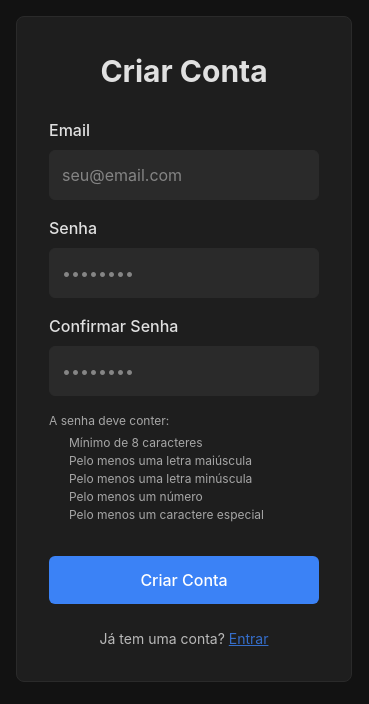
Test: Tela de Cadastro (SignUp) - Integração › deve exibir erros de validação ao submeter formulário vazio
(page scrolled)
Click the button "Criar Conta" at {"x": 184, "y": 580}, box top-left (49, 556), bottom-right (319, 604)
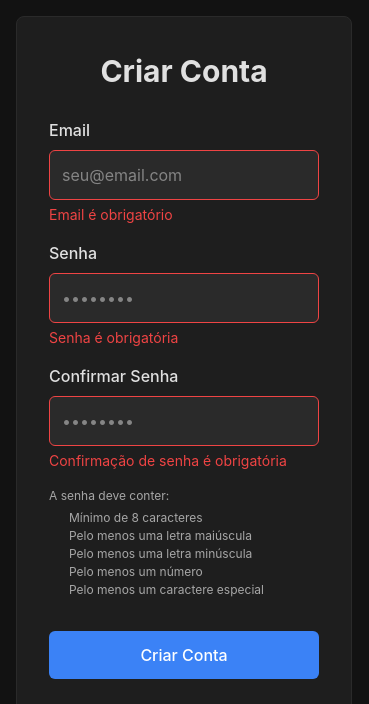
Expected: the text "Email é obrigatório" is shown, top-left (49, 206), bottom-right (173, 223)
Expected: the text "Senha é obrigatória" is shown, top-left (49, 329), bottom-right (178, 346)
